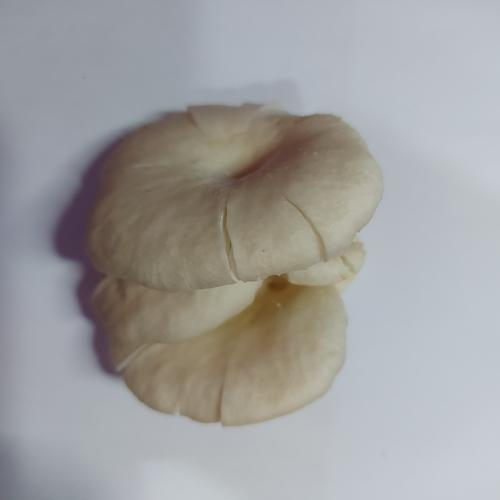Oyster Mushroom: (81, 101, 385, 427)
